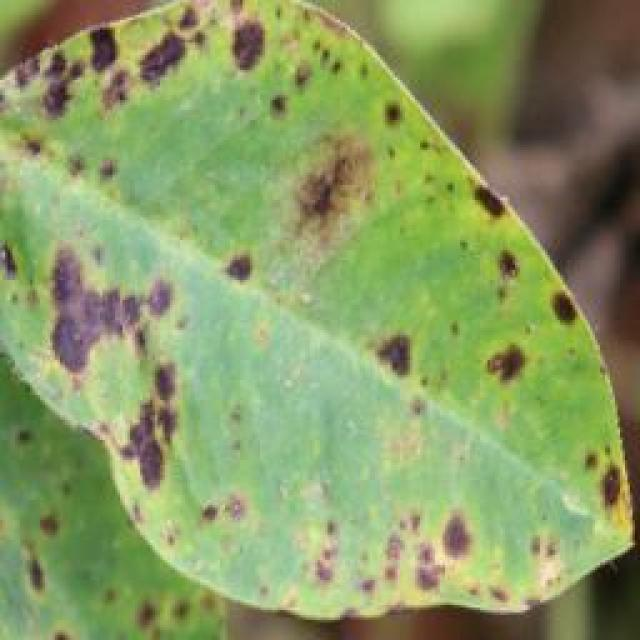Yellowish: (0, 0, 638, 616)
